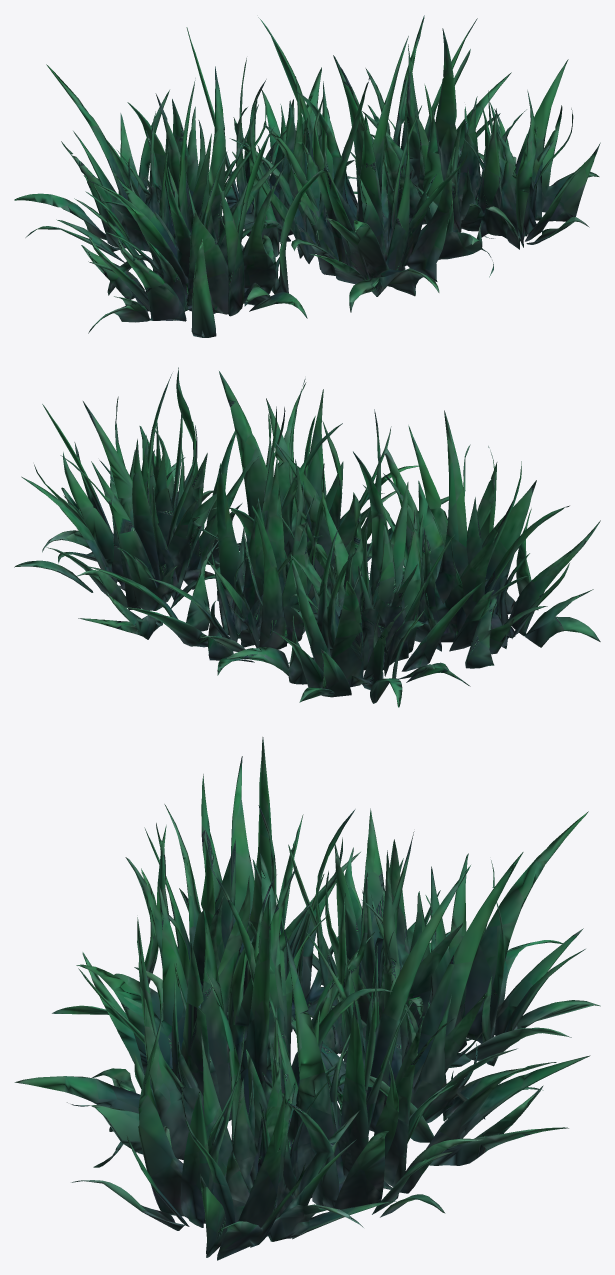
3 renders of one model, top to bottom at view 1: azimuth 30°, elevation 25°; view 2: azimuth 150°, elevation 25°; view 3: azimuth 270°, elevation 25°, orthographic. The views are drawn at different scales.
Size of the model in its own units: 1.89 by 0.7671 by 1.39.
Materials: 1 (1 with a texture image).
